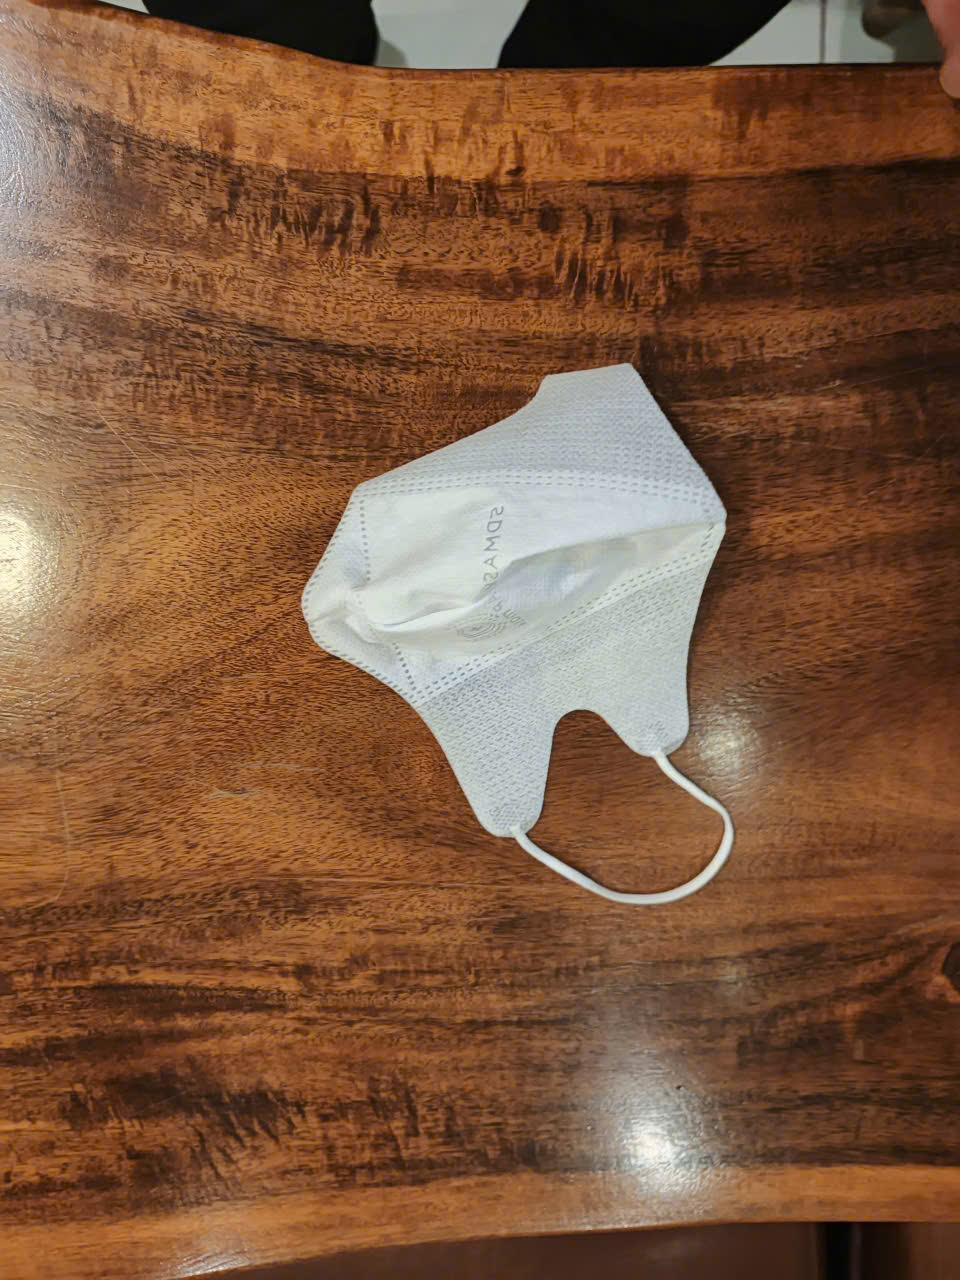Con lai: (295, 360, 748, 895)
